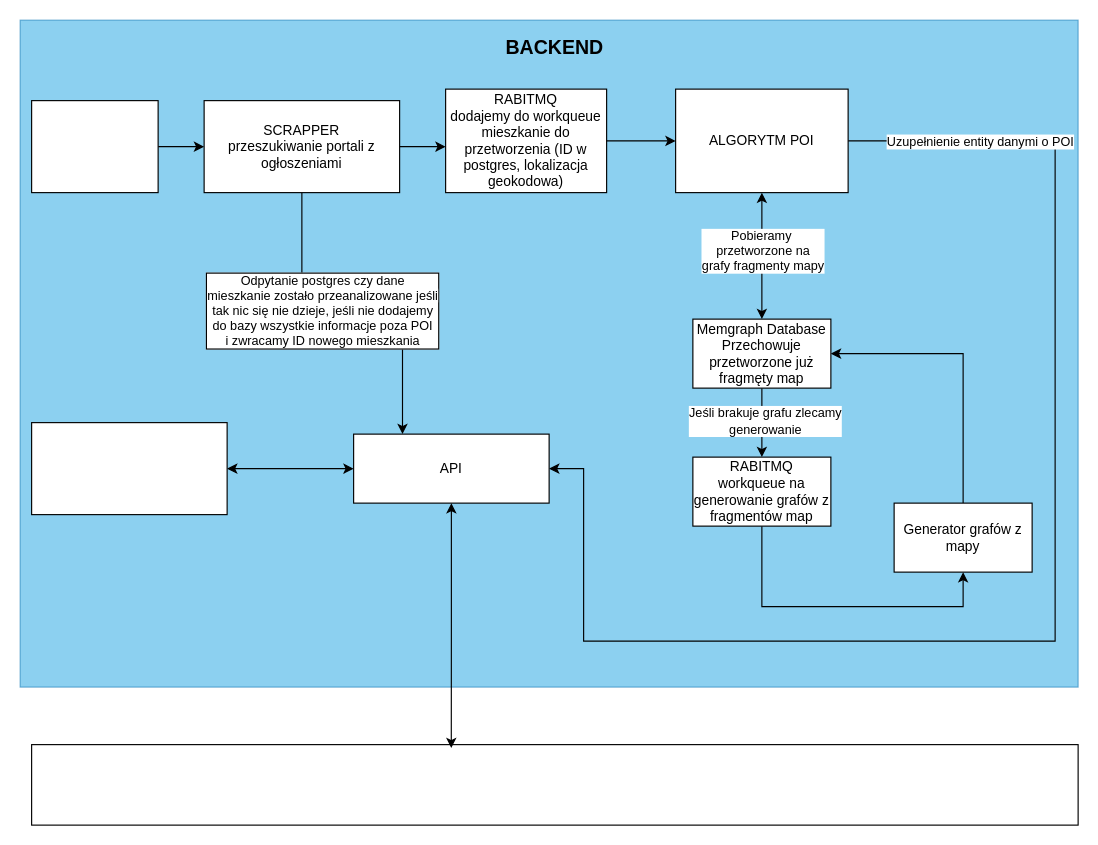
The diagram is 1098 pixels wide and 845 high, and some of its shapes have lost their labels. Here are the shapes that lost their labels. From the top down, the box of each, then its label:
(30, 99, 158, 193): TRIGGER wyzwala scrapper codziennie o 1:00
(30, 421, 227, 515): POSTGRES baza zbadanych już mieszkań
(30, 743, 1078, 825): FRONTEND
